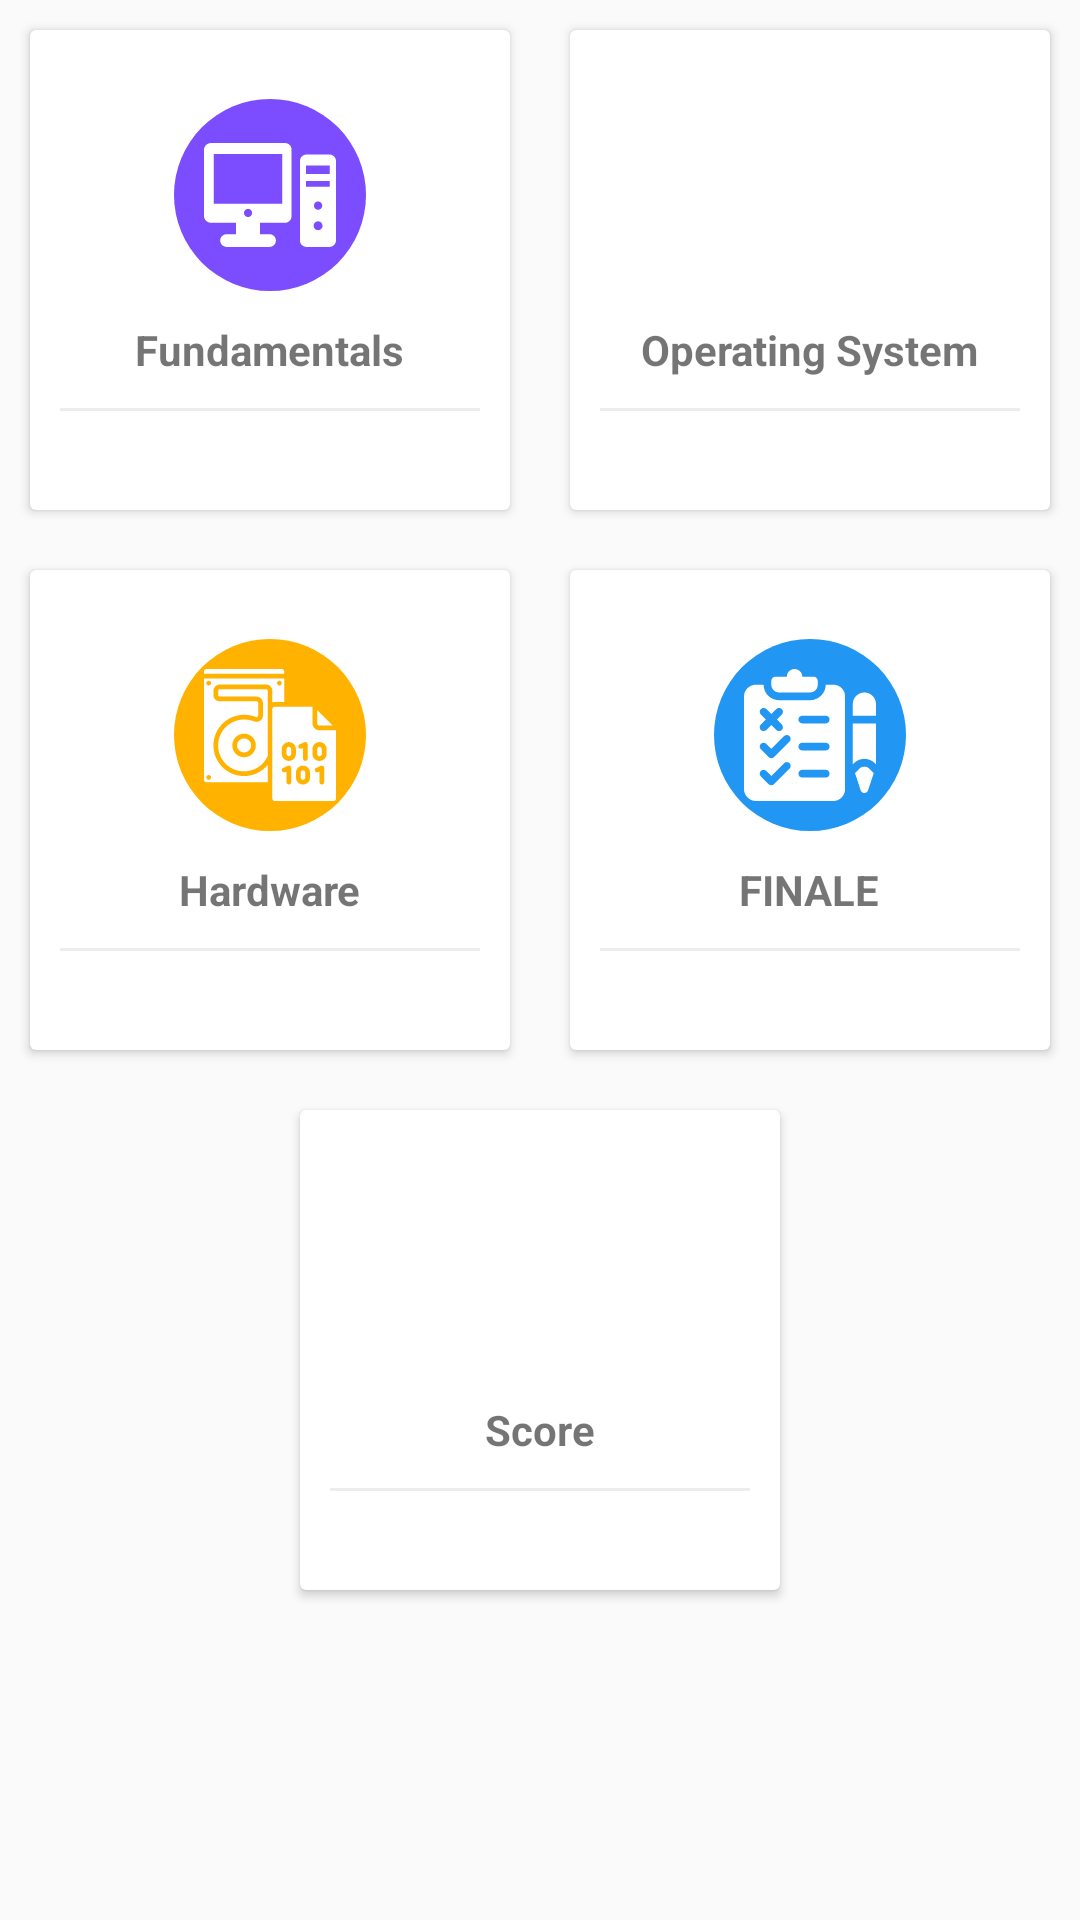

Screen size 1080 × 1920. Icon name, then its box in pixels as bbox(x1, y1, x2, y2):
computer: bbox(174, 99, 366, 291)
harddisk: bbox(174, 639, 366, 831)
